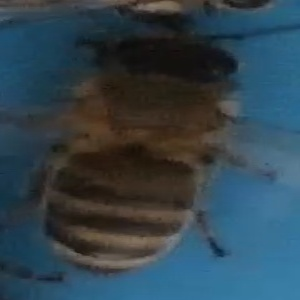bee: (12, 29, 275, 279)
